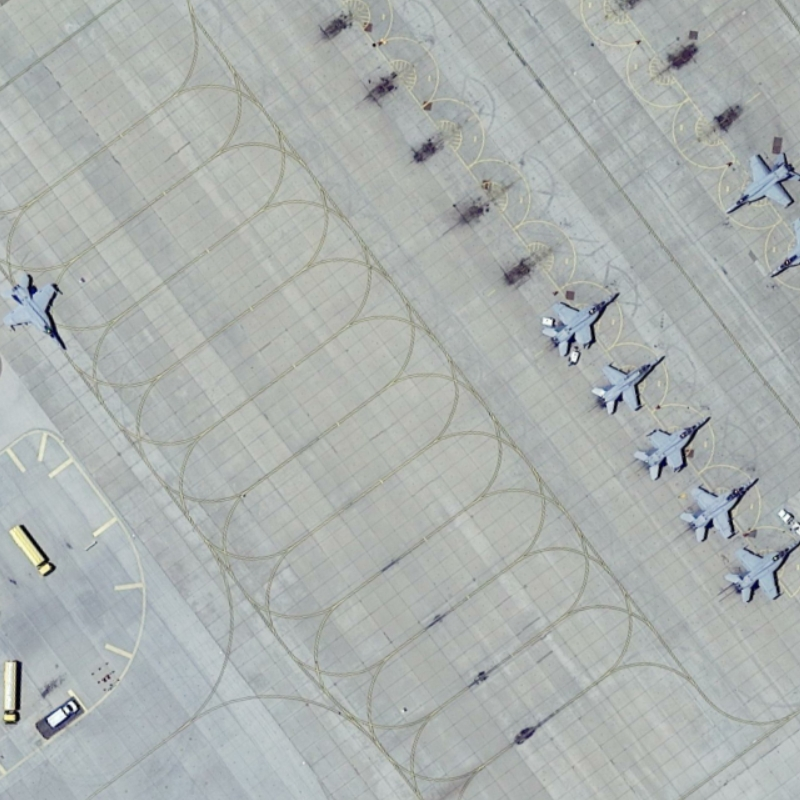A16: (536, 288, 622, 361), (678, 475, 763, 548), (629, 413, 714, 484), (1, 269, 72, 353), (720, 538, 800, 606), (722, 146, 800, 215), (587, 352, 668, 416)
